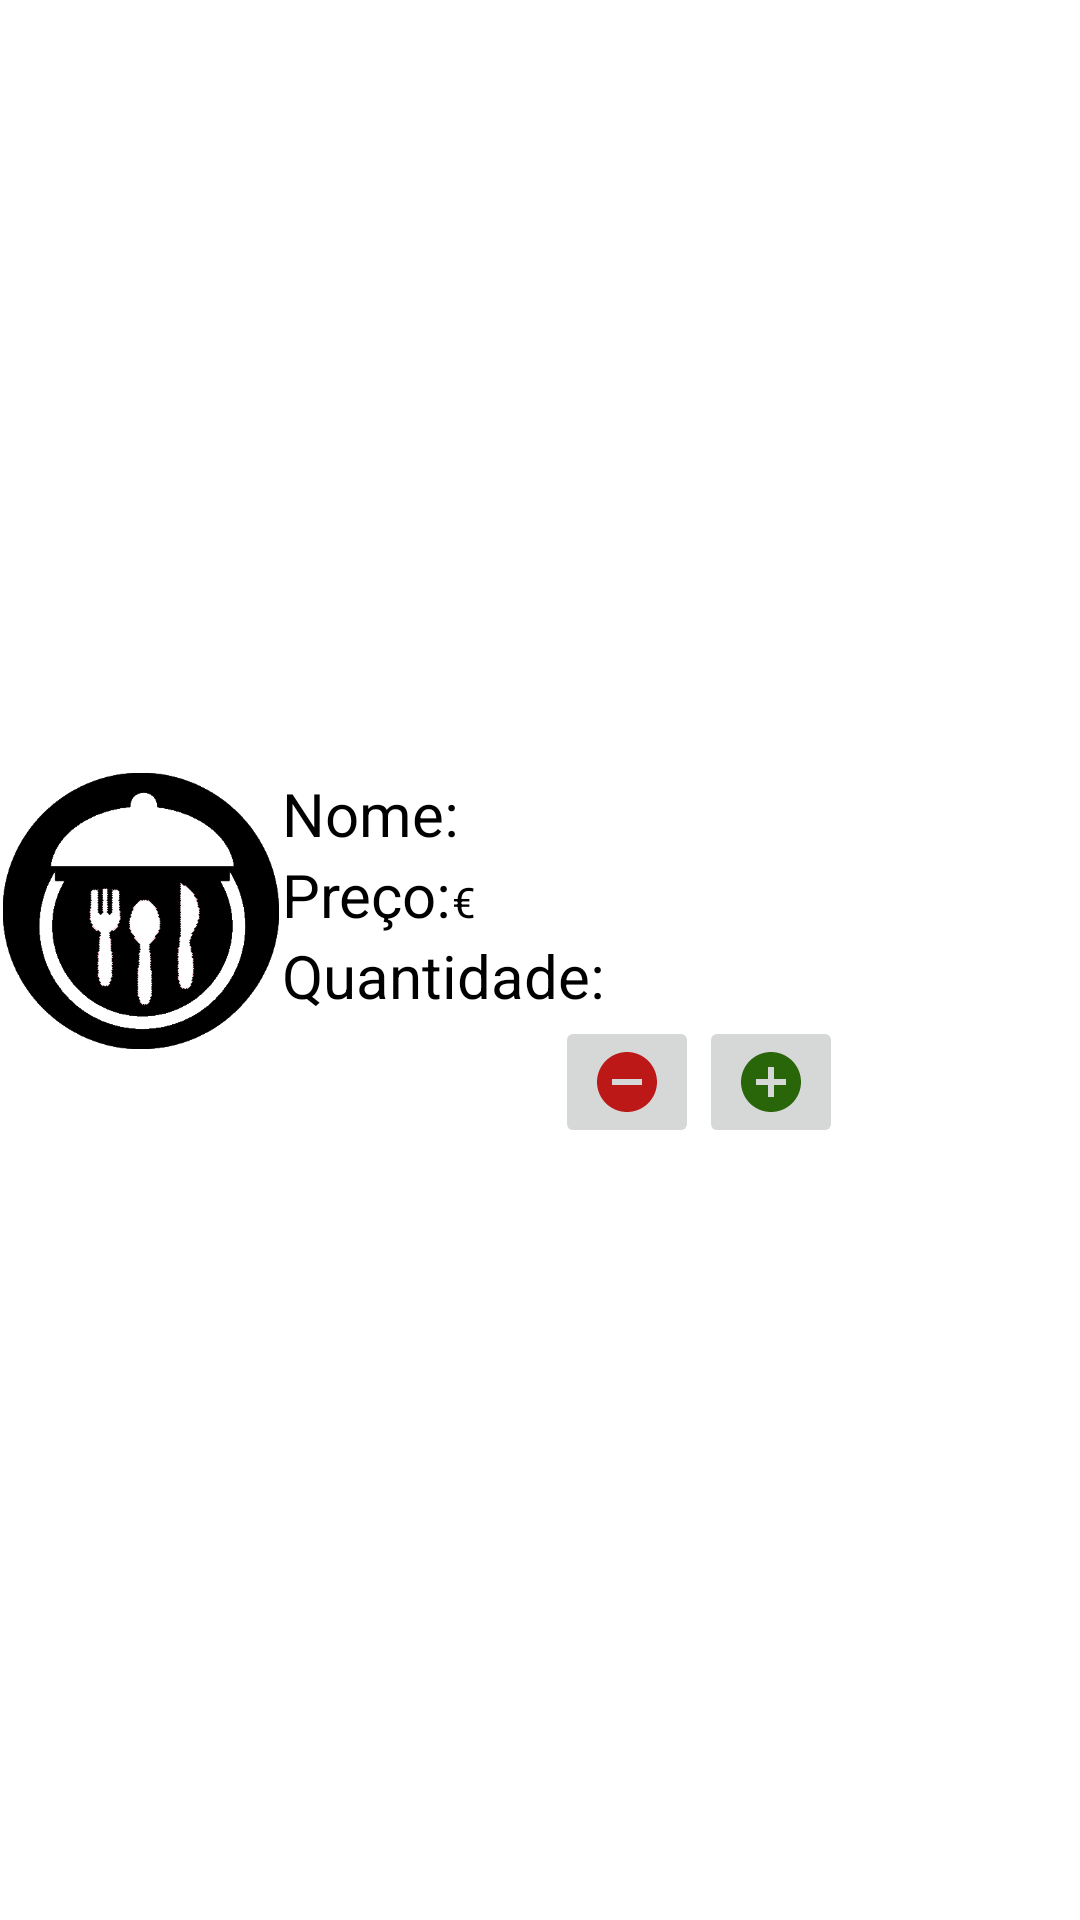

Locate icon controls on the screen. Image size 1080px×1920px, boxes as (x1, y1, x2, y2).
add circle: (711, 1034, 831, 1130)
remove circle: (567, 1034, 687, 1130)
